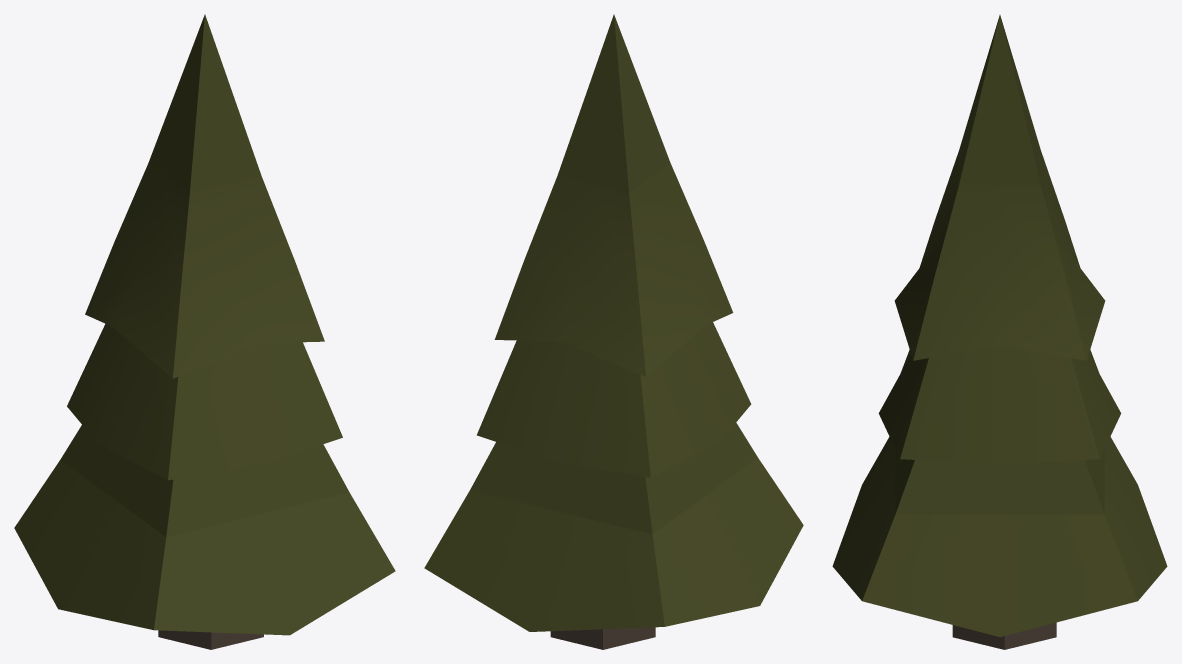
Rendered from Pine Tree.fbx.
The picture shows the model from 3 angles, left to right: view 1: azimuth 30°, elevation 25°; view 2: azimuth 150°, elevation 25°; view 3: azimuth 270°, elevation 25°; orthographic projection.
Parts seen in each view (by area): view 1: Pine_Tree, Base; view 2: Pine_Tree, Base; view 3: Pine_Tree, Base.
Part boxes in pixels (x1=…): Pine_Tree: x1=14, y1=14, x2=395, y2=635; Base: x1=158, y1=630, x2=263, y2=649; Pine_Tree: x1=424, y1=14, x2=803, y2=631; Base: x1=550, y1=627, x2=655, y2=649; Pine_Tree: x1=832, y1=15, x2=1167, y2=636; Base: x1=952, y1=622, x2=1056, y2=649.
Bounding box in the file's own units: 2.85 × 5.69 × 2.85.
